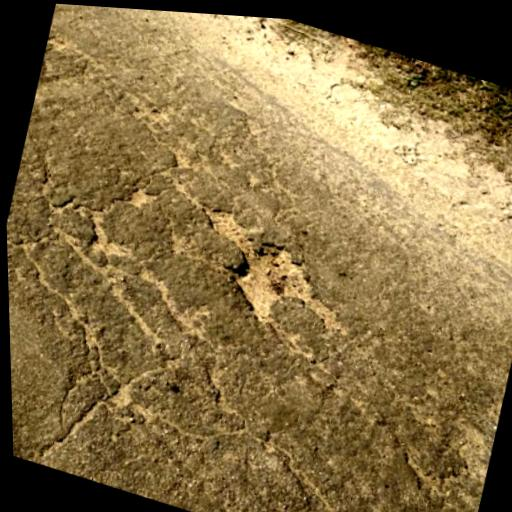pothole: (181, 200, 358, 346)
